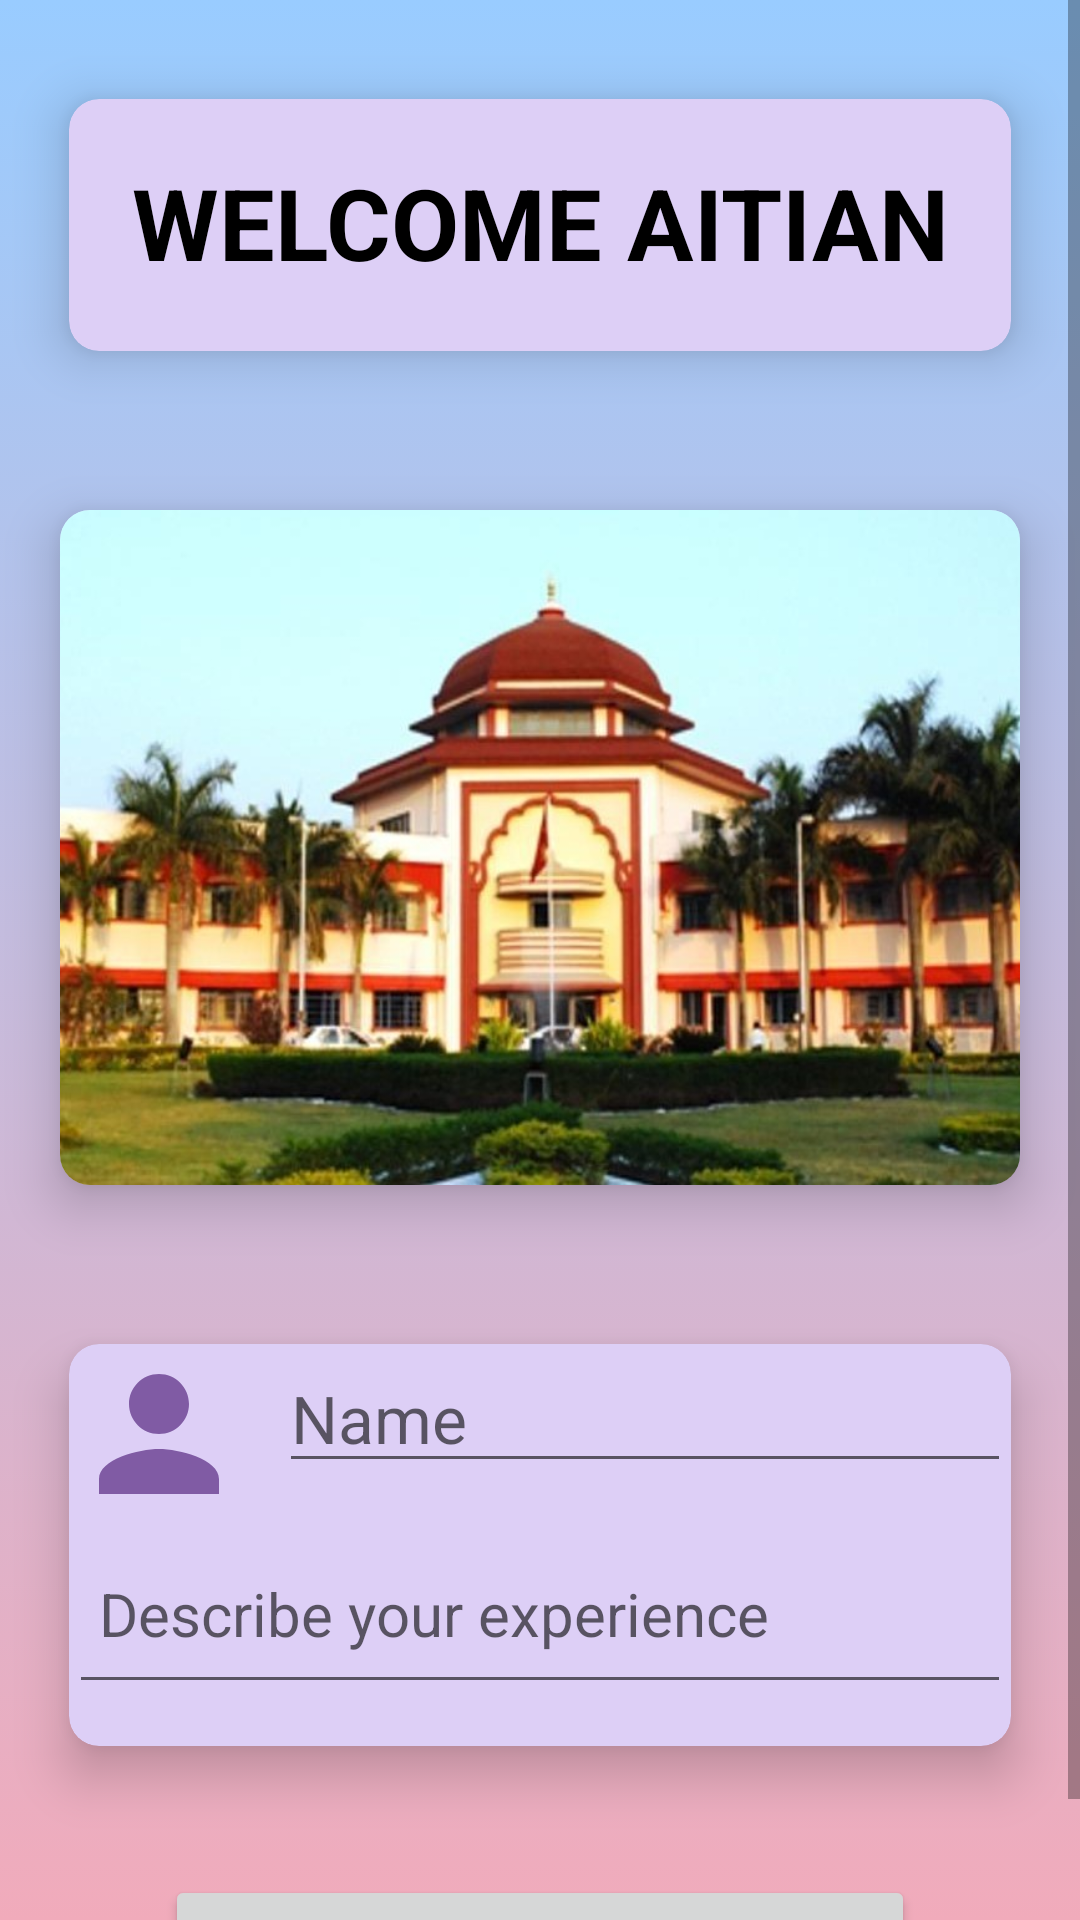

Named icons in this screenshot (1080×1920) and their centers, [x,y]:
person: [159,1434]
